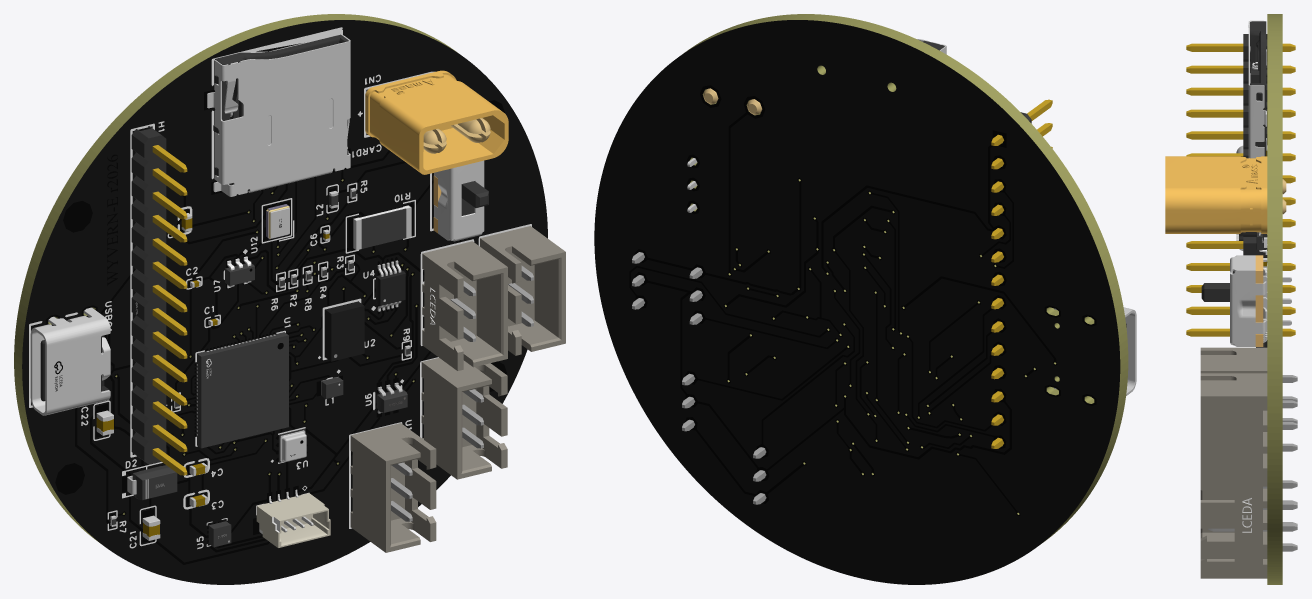
The model's file is 3D_PCB1_2026-08-09.obj.
The picture shows the model from 3 angles, left to right: view 1: azimuth 30°, elevation 25°; view 2: azimuth 150°, elevation 25°; view 3: azimuth 270°, elevation 25°; orthographic projection. The views are drawn at different scales.
Bounding box in the file's own units: 59.97 × 59.97 × 13.9.
